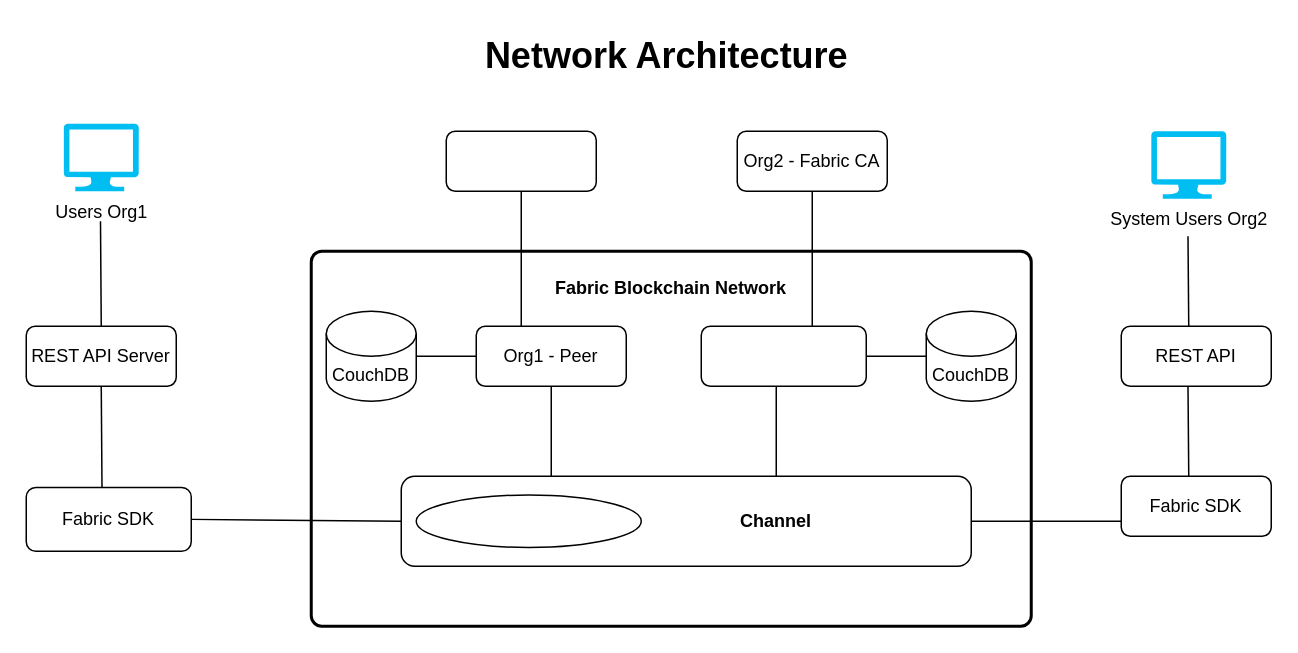
Some shapes in this 1298 by 653 pixel diagram are drawn without their labels. The shapes that lost their labels are listed below. From the top down, each one's centre as x and y in pixels, then its label:
At (x=520, y=160): "Org1 - Fabric CA".
At (x=783, y=355): "Org2 - Peer".
At (x=528, y=521): "Deployed Chaincode".
